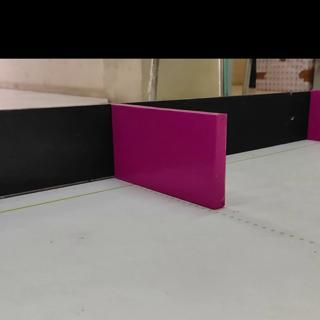xparking: (113, 117, 226, 197)
